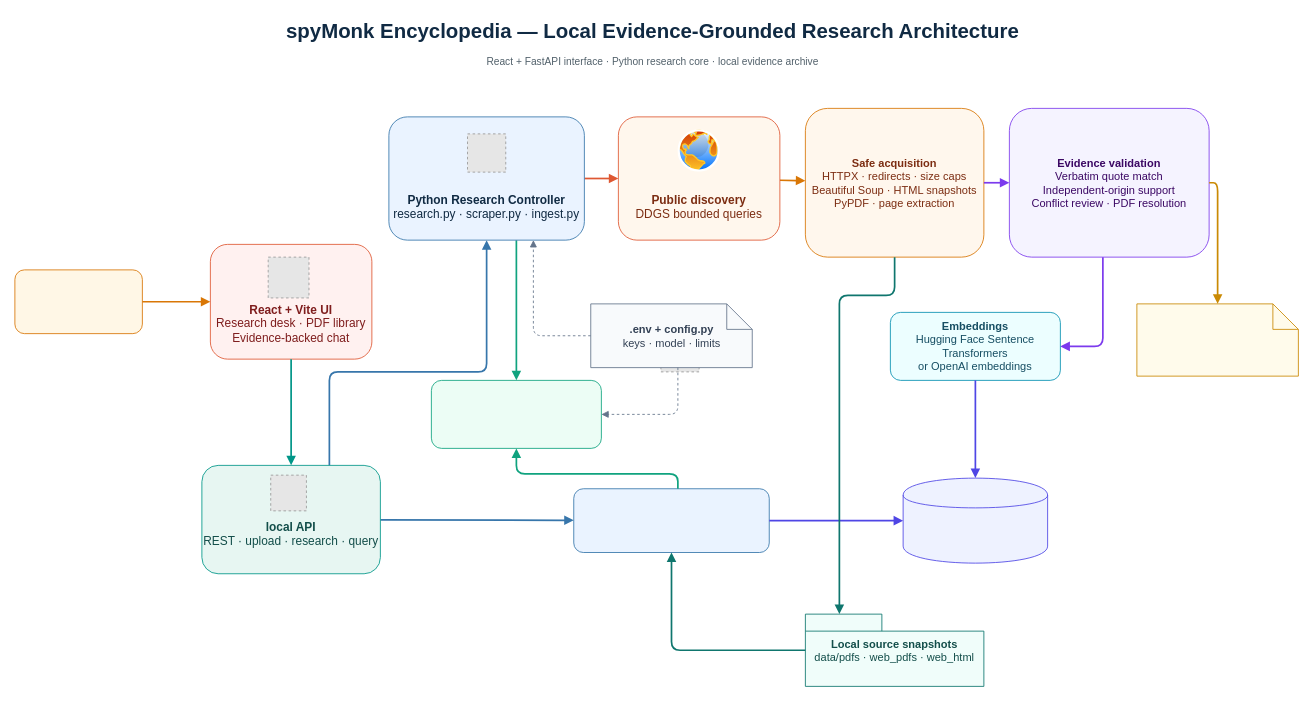
This 1313x701 diagram has some shape labels left out. Grey dashed boxes stand in for pictures. Each missing label, with the centre of its shape:
"ChromaDB Local vector index semantic retrieval" goes at (x=975, y=520).
"JSON topic archive claims · quotes · audit trail" goes at (x=1217, y=339).
"OpenAI-compatible LLM LangChain · extraction comparison · bounded answers" goes at (x=516, y=414).
"Query Controller retrieve → re-check → answer" goes at (x=671, y=520).
"Researcher topic · PDF · question" goes at (x=78, y=301).
